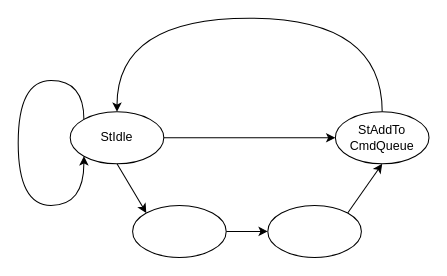
The diagram is 447 pixels wide and 276 high, and some of its shapes have lost their labels. Each missing label, with the centre of its shape:
"StRxData1" goes at point 179,230.
"StRxData2" goes at point 314,230.
